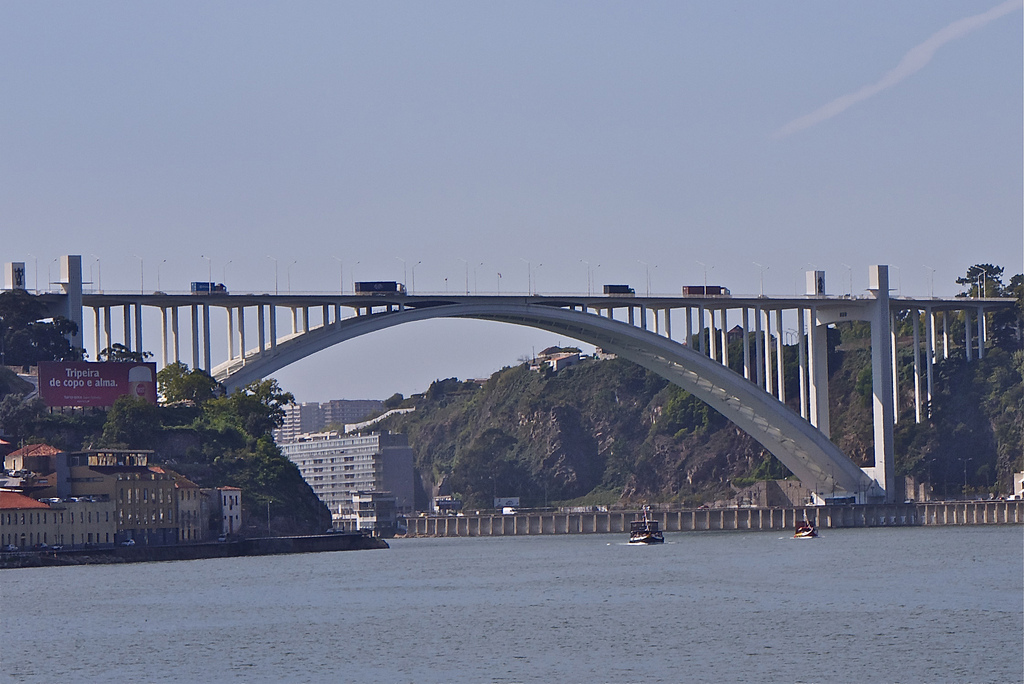arrabida: (0, 253, 1023, 503)
